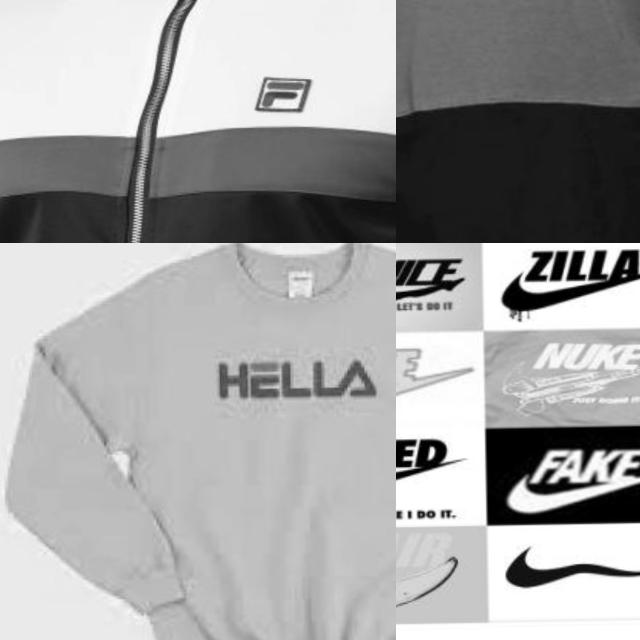FILA_fake: (200, 317, 396, 418)
FILA_original: (235, 43, 343, 143)
NIKE_fake: (492, 533, 640, 609), (498, 435, 640, 514), (502, 338, 640, 417), (495, 243, 640, 318), (396, 529, 483, 618), (396, 243, 475, 326), (396, 433, 469, 522), (396, 341, 473, 416)
